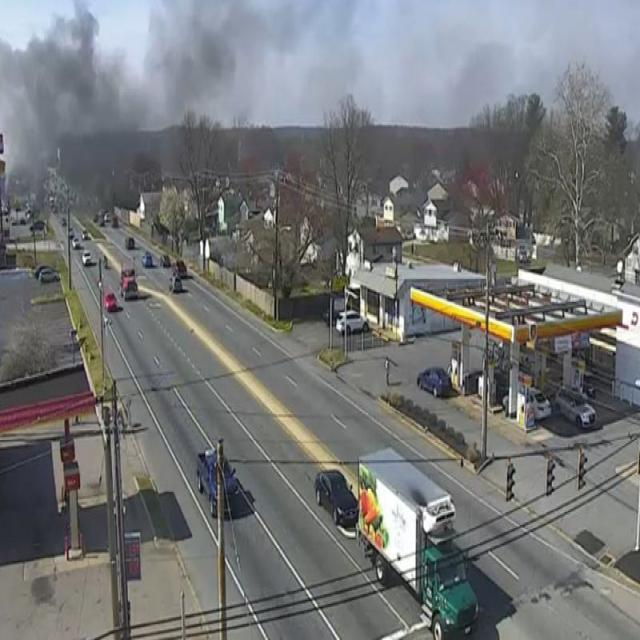Smoke: (1, 4, 374, 212)
